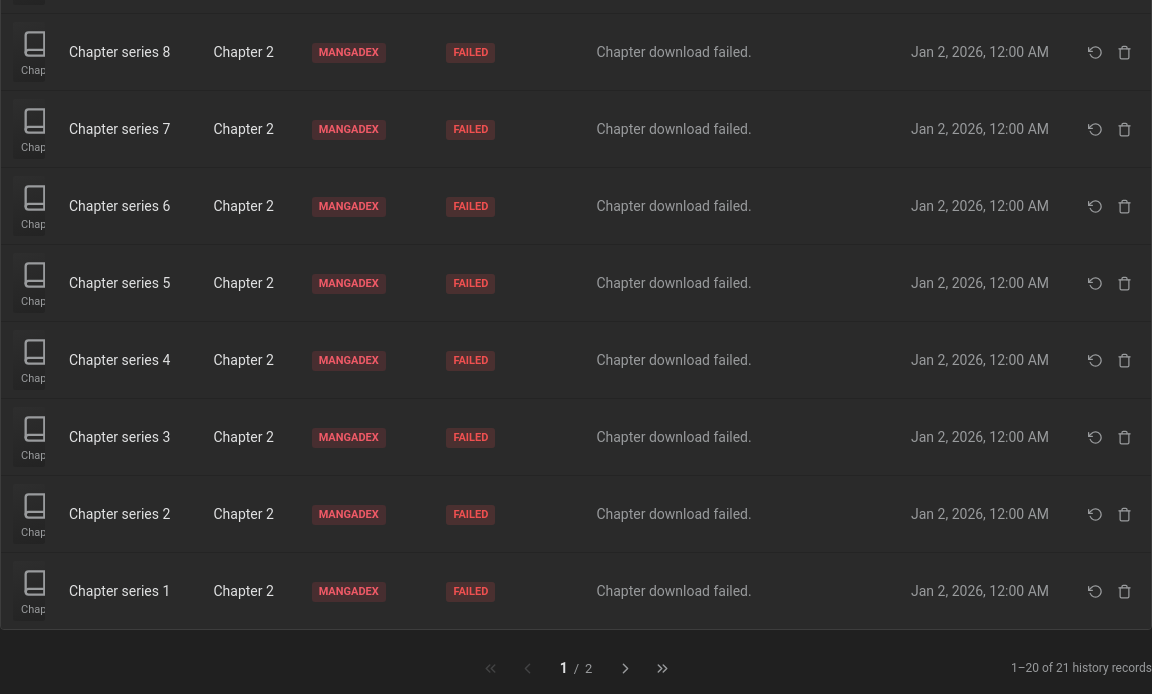
it: paginates the merged history as one list
The width and height of the screenshot is (1152, 694).
(page scrolled)
Click the button named "Next page" at (625, 668), box [608, 651, 642, 685]
(page scrolled)
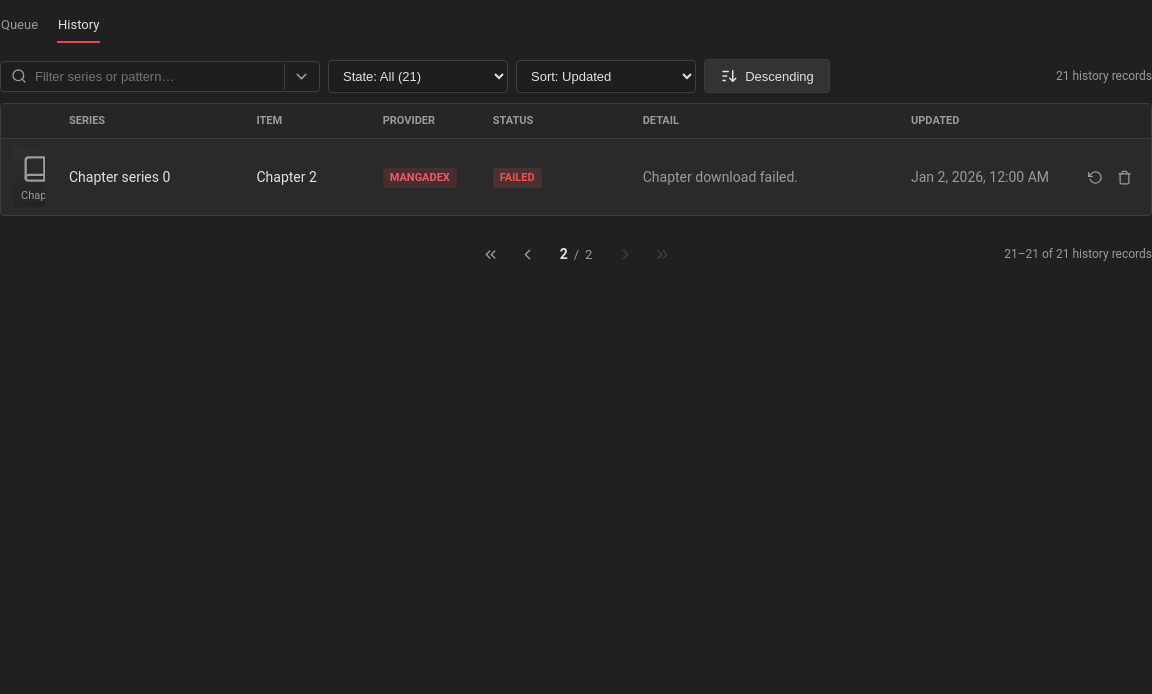
Now the number of rows is 2, box [1, 104, 1151, 139]; [1, 139, 1151, 215]
